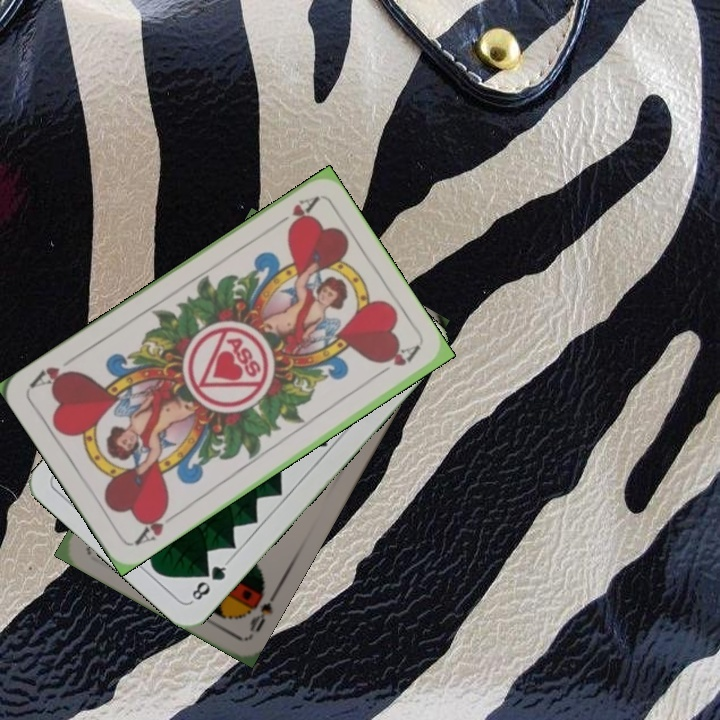G8: (187, 557, 231, 605)
HA: (130, 504, 181, 548), (268, 192, 321, 234)
SO: (243, 578, 282, 635)
